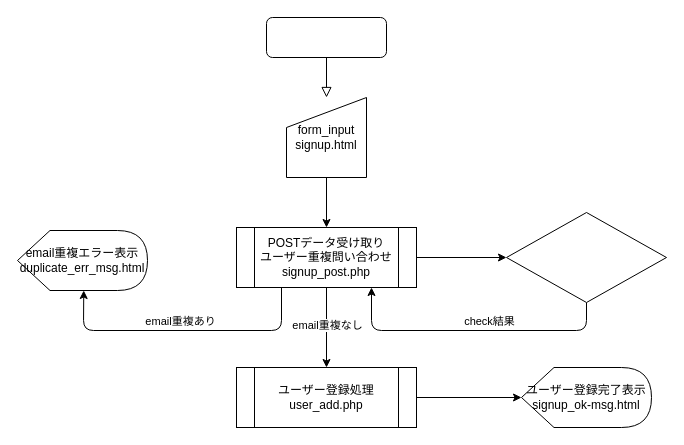
This 684x445 diagram has some shape labels left out. The shapes that lost their labels are listed below. From the top down, each one's centre as x and y in pixels, then its label:
At (326,37): "users_signup".
At (586,257): "email address チェック duplicate_check.php".
